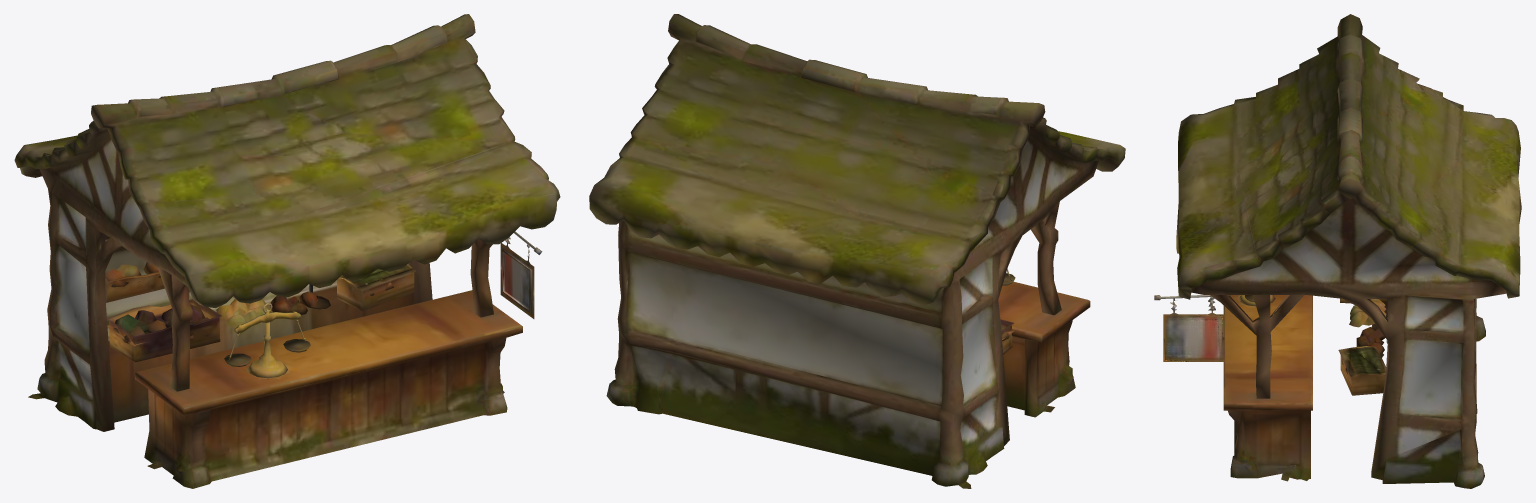
Rendered from civic_trading_post.glb.
3 views of the same model, side by side, from view 1: azimuth 30°, elevation 25°; view 2: azimuth 150°, elevation 25°; view 3: azimuth 270°, elevation 25° (orthographic). The views are drawn at different scales.
Visible parts, largest first — view 1: tripo_node_3f643257-2099-4d01-af01-09f5736a5aae; view 2: tripo_node_3f643257-2099-4d01-af01-09f5736a5aae; view 3: tripo_node_3f643257-2099-4d01-af01-09f5736a5aae.
Part boxes in pixels (<box>): tripo_node_3f643257-2099-4d01-af01-09f5736a5aae: <box>14,14,560,488</box>; tripo_node_3f643257-2099-4d01-af01-09f5736a5aae: <box>589,14,1125,488</box>; tripo_node_3f643257-2099-4d01-af01-09f5736a5aae: <box>1154,14,1521,488</box>.
Size of the model in its own units: 7.97 by 7 by 7.5.
Materials: 1 (1 with a texture image).
